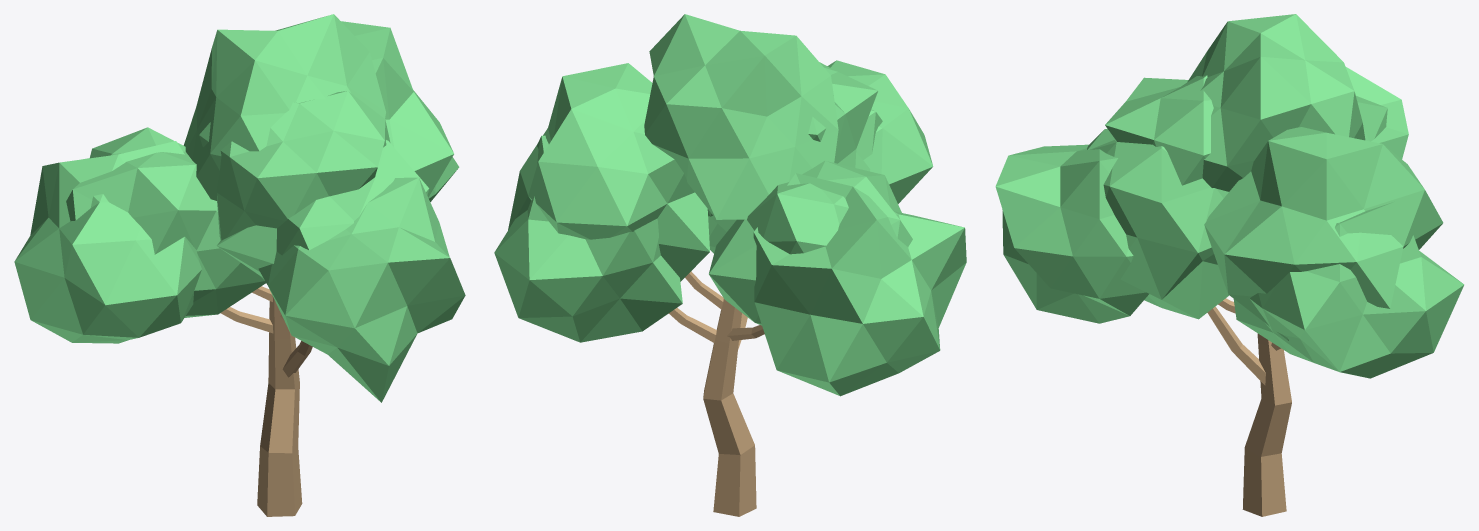
Rendered from Simple_004.fbx.
3 views of the same model, side by side, from view 1: azimuth 30°, elevation 25°; view 2: azimuth 150°, elevation 25°; view 3: azimuth 270°, elevation 25° (orthographic).
Parts seen in each view (by area): view 1: Simple.004; view 2: Simple.004; view 3: Simple.004.
Boxes of the visible parts, x1=… form: Simple.004: x1=14, y1=14, x2=465, y2=516; Simple.004: x1=494, y1=14, x2=966, y2=516; Simple.004: x1=995, y1=14, x2=1464, y2=516.
Bounding box in the file's own units: 6.34 × 6.84 × 6.1.
